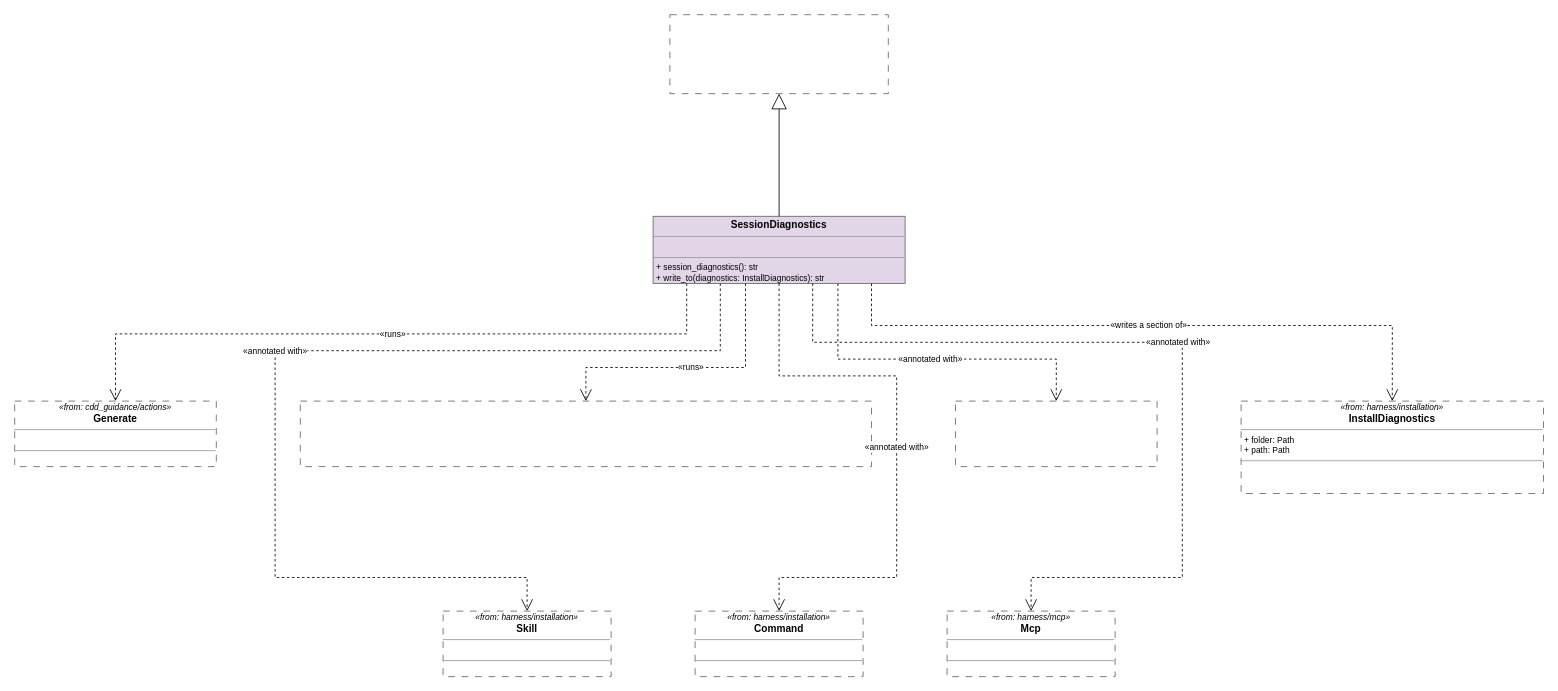
Image size: 1558x691. Some labels were removed from this diagram. Here are the shapes that lost their labels. From the top down, the box of each, then its label:
(669, 14, 888, 94): «from: harness/diagnostics» CallDiagnostics + call: ToolCall
(299, 400, 872, 467): «from: cdd_guidance/actions» Validate
(955, 400, 1157, 467): «from: harness/agent_tools» AgentToolSetAnnotation
